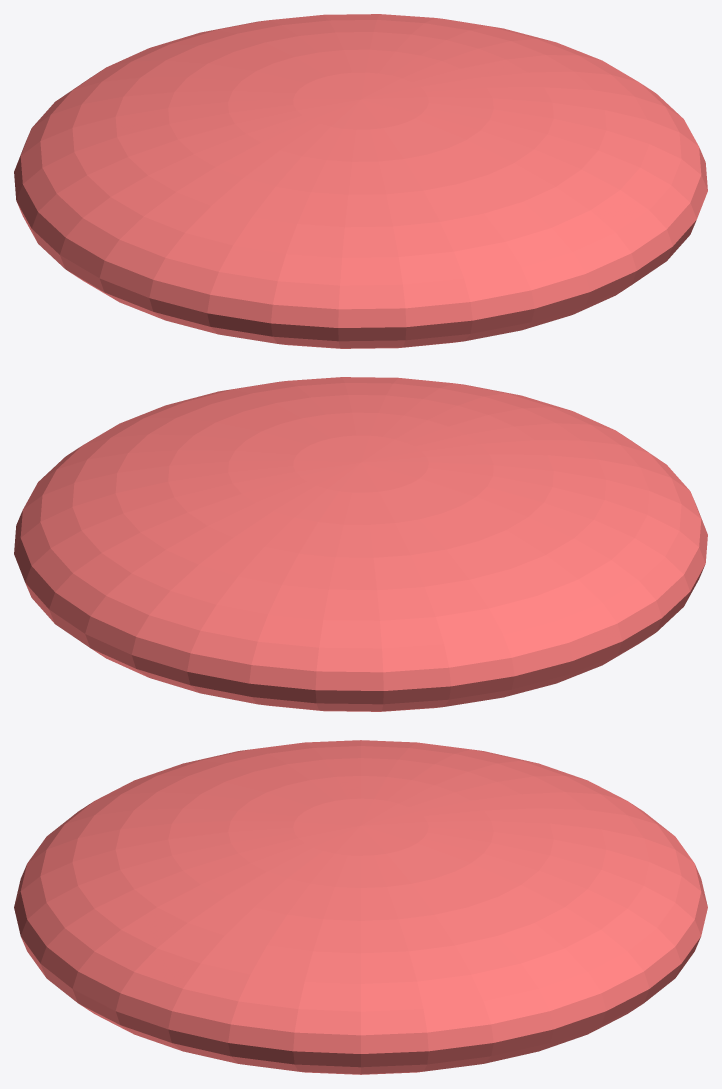
The model's file is rawpatty.glb.
3 renders of one model, top to bottom at view 1: azimuth 30°, elevation 25°; view 2: azimuth 150°, elevation 25°; view 3: azimuth 270°, elevation 25°, orthographic.
Parts seen in each view (by area): view 1: Sphere; view 2: Sphere; view 3: Sphere.
Boxes of the visible parts, left/top/right/bottom form: Sphere: left=14, top=14, right=707, bottom=348; Sphere: left=14, top=377, right=707, bottom=711; Sphere: left=14, top=740, right=707, bottom=1074.
Bounding box in the file's own units: 2 × 0.52 × 2.
